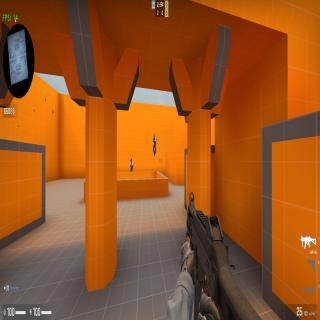T-Body: (152, 134, 156, 156), (130, 158, 133, 172)
T-Head: (130, 158, 132, 162), (154, 134, 154, 138)
